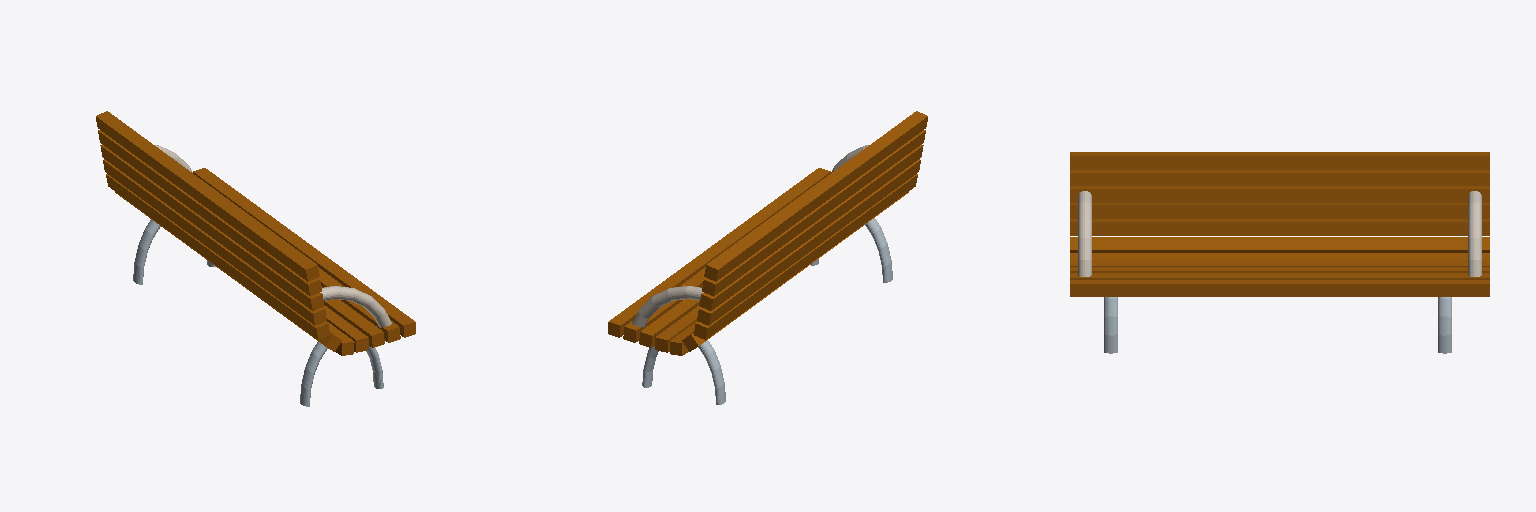
File: bench.obj
3 renders of one model, left to right at view 1: azimuth 30°, elevation 25°; view 2: azimuth 150°, elevation 25°; view 3: azimuth 270°, elevation 25°, orthographic.
Parts seen in each view (by area): view 1: Mesh5 Group7 Group4 Group1 Model, Mesh13 Group15 Group4 Group1 Model, Mesh3 Group5 Group4 Group1 Model, Mesh10 Group12 Group4 Group1 Model, Mesh4 Group6 Group4 Group1 Model, Mesh11 Group13 Group4 Group1 Model, Mesh1 Group2 Group1 Model, Mesh14 Group16 Group1 Model, Mesh8 Group10 Group4 Group1 Model, Mesh12 Group14 Group4 Group1 Model, Mesh2 Group3 Group1 Model, Mesh7 Group9 Group4 Group1 Model; view 2: Mesh5 Group7 Group4 Group1 Model, Mesh13 Group15 Group4 Group1 Model, Mesh3 Group5 Group4 Group1 Model, Mesh10 Group12 Group4 Group1 Model, Mesh4 Group6 Group4 Group1 Model, Mesh11 Group13 Group4 Group1 Model, Mesh2 Group3 Group1 Model, Mesh15 Group17 Group1 Model, Mesh8 Group10 Group4 Group1 Model, Mesh12 Group14 Group4 Group1 Model, Mesh1 Group2 Group1 Model, Mesh7 Group9 Group4 Group1 Model; view 3: Mesh5 Group7 Group4 Group1 Model, Mesh13 Group15 Group4 Group1 Model, Mesh4 Group6 Group4 Group1 Model, Mesh3 Group5 Group4 Group1 Model, Mesh11 Group13 Group4 Group1 Model, Mesh9 Group11 Group4 Group1 Model, Mesh10 Group12 Group4 Group1 Model, Mesh12 Group14 Group4 Group1 Model, Mesh6 Group8 Group4 Group1 Model, Mesh7 Group9 Group4 Group1 Model, Mesh8 Group10 Group4 Group1 Model, Mesh15 Group17 Group1 Model (+3 smaller).
Boxes of the visible parts, x1=… form: Mesh5 Group7 Group4 Group1 Model: x1=96, y1=111, x2=319, y2=281; Mesh13 Group15 Group4 Group1 Model: x1=193, y1=168, x2=415, y2=337; Mesh3 Group5 Group4 Group1 Model: x1=98, y1=130, x2=321, y2=296; Mesh10 Group12 Group4 Group1 Model: x1=103, y1=159, x2=326, y2=325; Mesh4 Group6 Group4 Group1 Model: x1=100, y1=144, x2=324, y2=310; Mesh11 Group13 Group4 Group1 Model: x1=106, y1=174, x2=329, y2=339; Mesh1 Group2 Group1 Model: x1=300, y1=342, x2=383, y2=406; Mesh14 Group16 Group1 Model: x1=320, y1=286, x2=391, y2=327; Mesh8 Group10 Group4 Group1 Model: x1=321, y1=286, x2=384, y2=347; Mesh12 Group14 Group4 Group1 Model: x1=318, y1=267, x2=400, y2=342; Mesh2 Group3 Group1 Model: x1=133, y1=219, x2=215, y2=284; Mesh7 Group9 Group4 Group1 Model: x1=323, y1=306, x2=368, y2=352; Mesh5 Group7 Group4 Group1 Model: x1=704, y1=111, x2=927, y2=281; Mesh13 Group15 Group4 Group1 Model: x1=608, y1=168, x2=830, y2=337; Mesh3 Group5 Group4 Group1 Model: x1=702, y1=130, x2=925, y2=296; Mesh10 Group12 Group4 Group1 Model: x1=697, y1=159, x2=920, y2=325; Mesh4 Group6 Group4 Group1 Model: x1=699, y1=144, x2=923, y2=310; Mesh11 Group13 Group4 Group1 Model: x1=694, y1=174, x2=917, y2=339; Mesh2 Group3 Group1 Model: x1=642, y1=340, x2=725, y2=404; Mesh15 Group17 Group1 Model: x1=632, y1=286, x2=703, y2=327; Mesh8 Group10 Group4 Group1 Model: x1=639, y1=286, x2=702, y2=347; Mesh12 Group14 Group4 Group1 Model: x1=623, y1=267, x2=705, y2=342; Mesh1 Group2 Group1 Model: x1=811, y1=218, x2=892, y2=282; Mesh7 Group9 Group4 Group1 Model: x1=655, y1=306, x2=700, y2=352; Mesh5 Group7 Group4 Group1 Model: x1=1070, y1=152, x2=1489, y2=169; Mesh13 Group15 Group4 Group1 Model: x1=1070, y1=280, x2=1489, y2=296; Mesh4 Group6 Group4 Group1 Model: x1=1070, y1=186, x2=1489, y2=202; Mesh3 Group5 Group4 Group1 Model: x1=1070, y1=170, x2=1489, y2=185; Mesh11 Group13 Group4 Group1 Model: x1=1070, y1=219, x2=1489, y2=235; Mesh9 Group11 Group4 Group1 Model: x1=1070, y1=237, x2=1489, y2=252; Mesh10 Group12 Group4 Group1 Model: x1=1070, y1=203, x2=1489, y2=218; Mesh12 Group14 Group4 Group1 Model: x1=1070, y1=273, x2=1489, y2=279; Mesh6 Group8 Group4 Group1 Model: x1=1070, y1=253, x2=1489, y2=259; Mesh7 Group9 Group4 Group1 Model: x1=1070, y1=260, x2=1489, y2=266; Mesh8 Group10 Group4 Group1 Model: x1=1070, y1=267, x2=1489, y2=272; Mesh15 Group17 Group1 Model: x1=1468, y1=191, x2=1481, y2=276.
Bounding box in the file's own units: 0.9112 × 1.24 × 3.